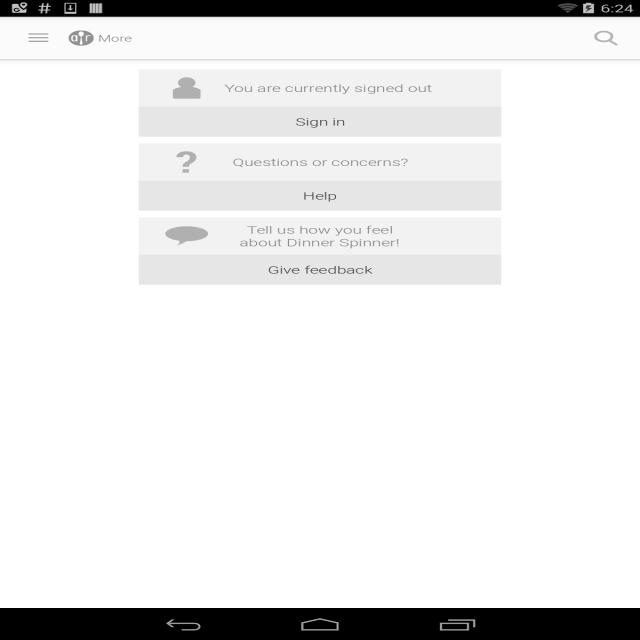ImageButton: (586, 27, 627, 50), (19, 28, 53, 48)
ImageView: (158, 224, 215, 247), (166, 73, 209, 100), (62, 27, 101, 50), (168, 148, 202, 173)
TextView: (215, 78, 453, 98), (239, 223, 405, 250), (229, 152, 423, 171), (261, 260, 379, 278), (290, 114, 352, 132), (299, 191, 343, 203)
